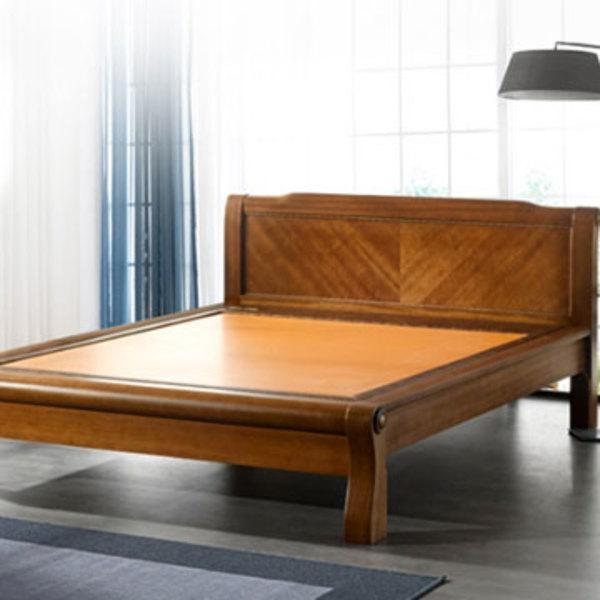Bed-Mattress: (0, 180, 591, 550)
